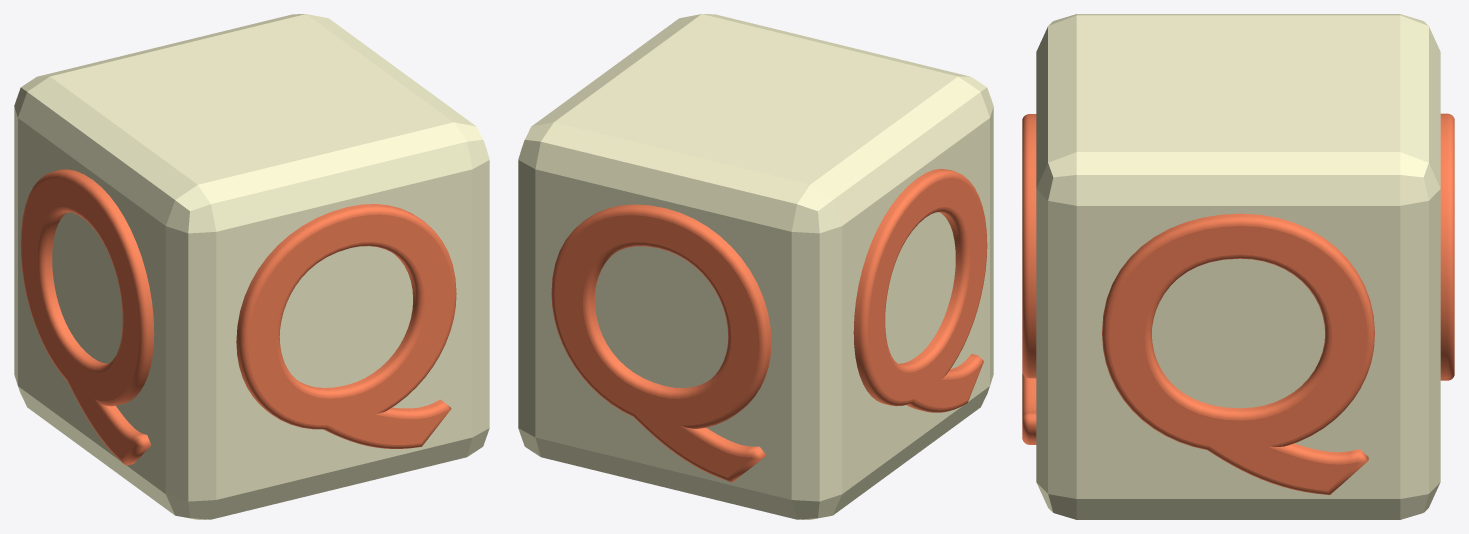
3 renders of one model, left to right at view 1: azimuth 30°, elevation 25°; view 2: azimuth 150°, elevation 25°; view 3: azimuth 270°, elevation 25°, orthographic. The views are drawn at different scales.
Visible parts, largest first — view 1: Q; view 2: Q; view 3: Q.
Part boxes in pixels (x1,y1,x2,y2): Q: (14,14,489,519); Q: (518,14,993,519); Q: (1022,14,1454,519).
Size of the model in its own units: 214 by 200 by 214.
